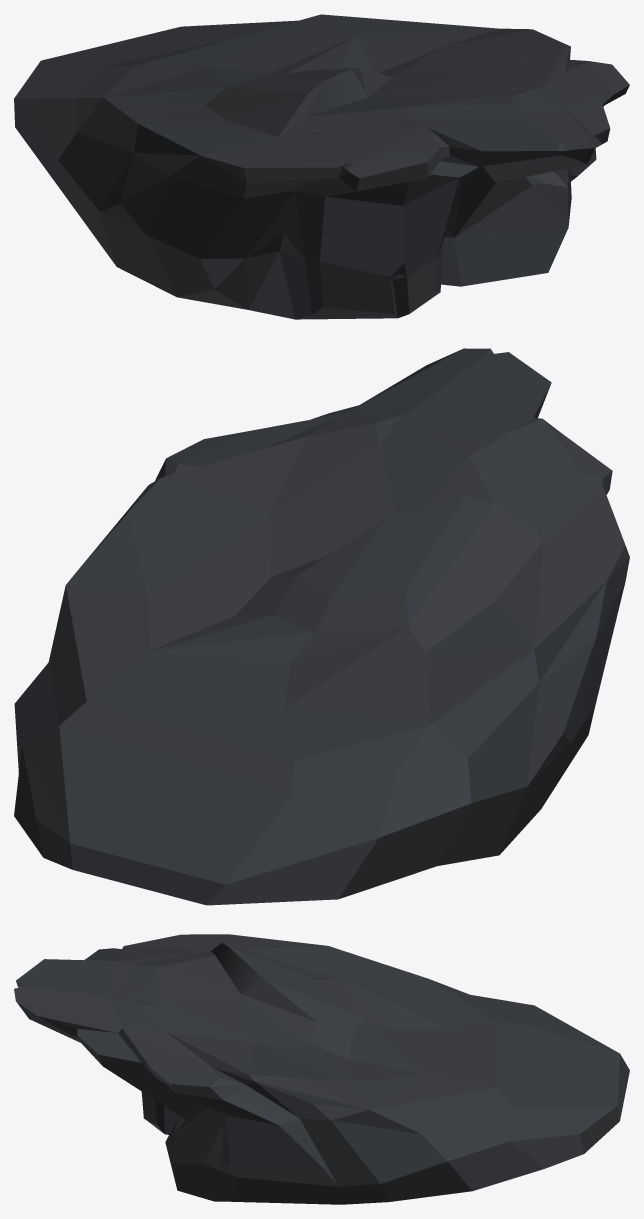
Rendered from isle_cliff_curve.gltf.
The picture shows the model from 3 angles, top to bottom: view 1: azimuth 30°, elevation 25°; view 2: azimuth 150°, elevation 25°; view 3: azimuth 270°, elevation 25°; orthographic projection. The views are drawn at different scales.
Visible parts, largest first — view 1: isle_cliff_curve; view 2: isle_cliff_curve; view 3: isle_cliff_curve.
Boxes of the visible parts, x1=… form: isle_cliff_curve: x1=14, y1=14, x2=629, y2=319; isle_cliff_curve: x1=14, y1=348, x2=629, y2=905; isle_cliff_curve: x1=14, y1=934, x2=629, y2=1204.
Size of the model in its own units: 88.79 by 46.78 by 137.
1 material, 1 textured.
